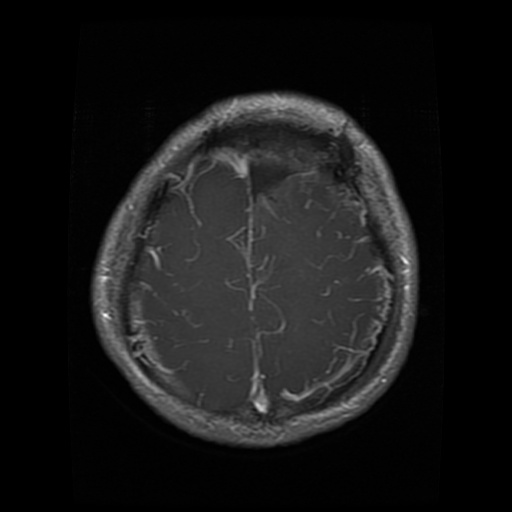glioma: (202, 118, 353, 196)
